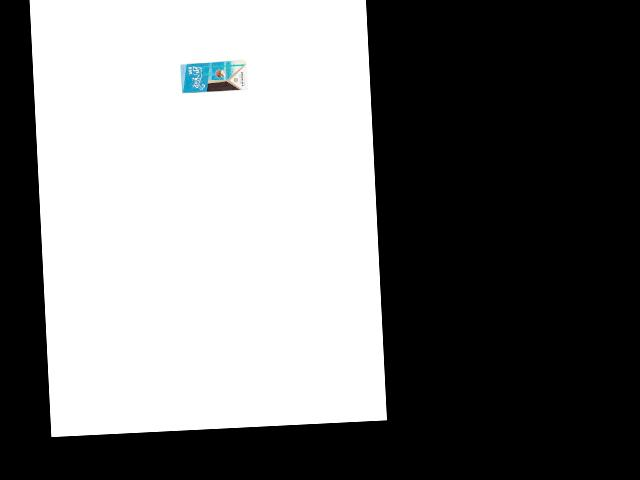chocolate: (179, 59, 249, 95)
